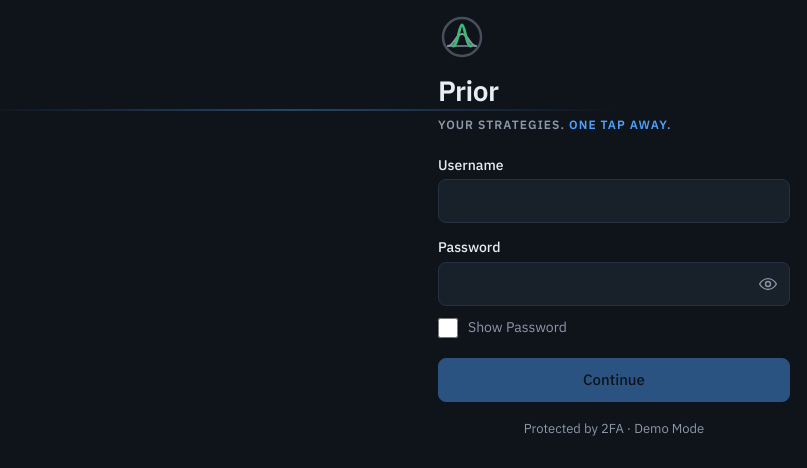
login: six-digit code step (item 29) › draws six boxes over one real one-time-code input
Type "demo-user" into the field labelled "Username". click: (614, 201)
box: [438,179,790,223]
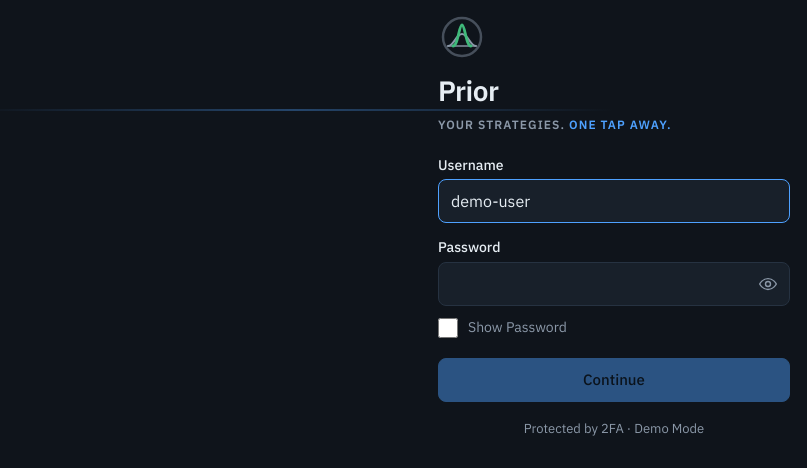
Type "hunter2" into the password field labelled "Password". click: (614, 284)
box: [438,262,790,306]
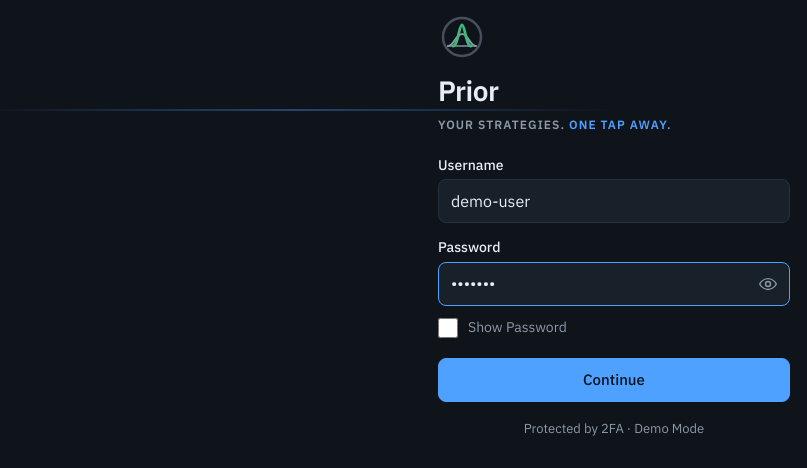
Click the button "Continue". click: (614, 380)
box: [438,358,790,402]
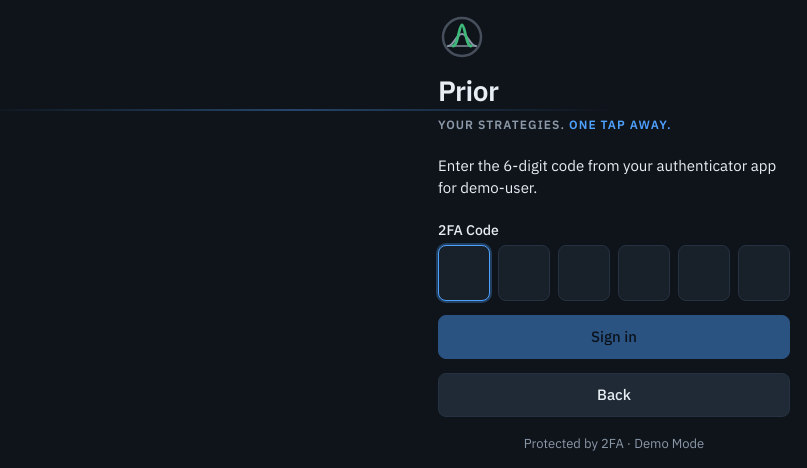
Now the number of elements with class "otp-box" is 6, box [438,245,490,301]; [498,245,550,301]; [558,245,610,301]; [618,245,670,301]; [678,245,730,301]; [738,245,790,301]
Now the number of fields with class "otp-input" is 1, box [438,245,790,301]
